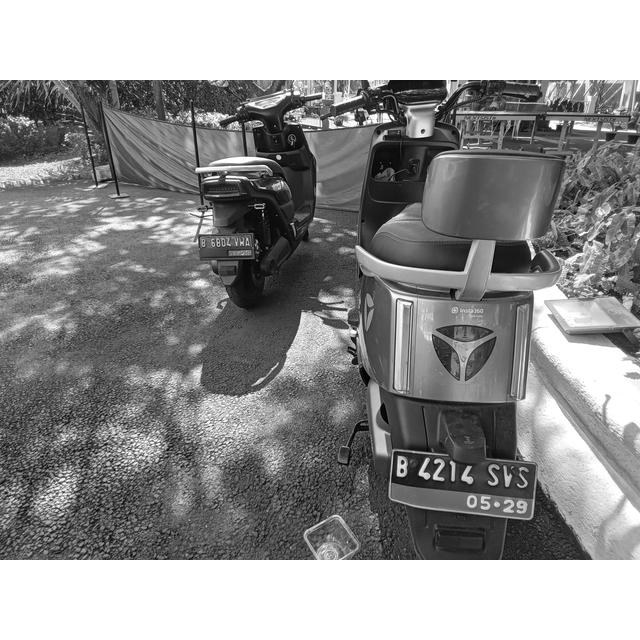license: (394, 454, 532, 517), (200, 236, 252, 256)
